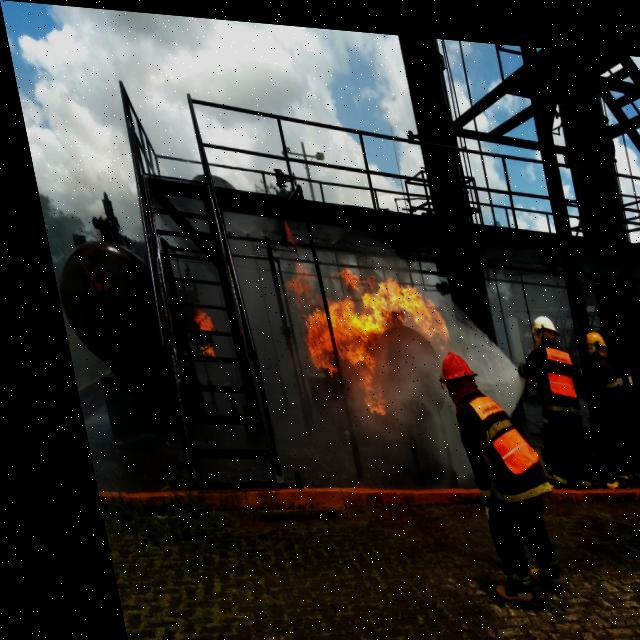Fire: (264, 244, 451, 413), (176, 305, 207, 356)
